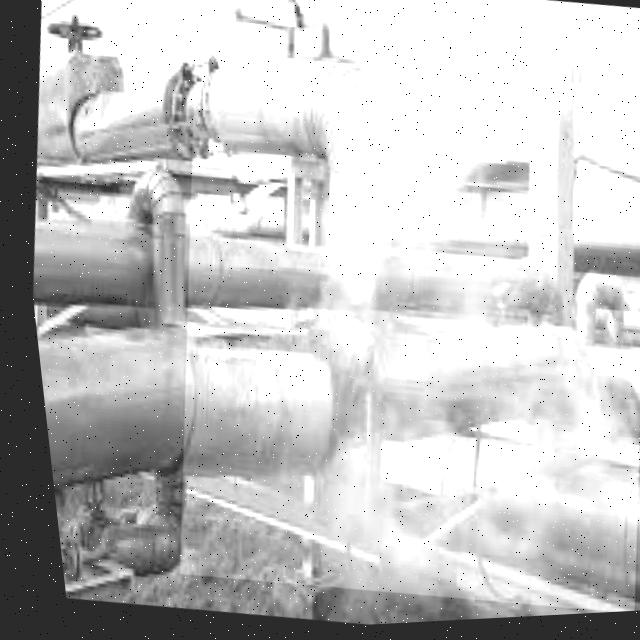corrosion: (180, 50, 640, 612)
